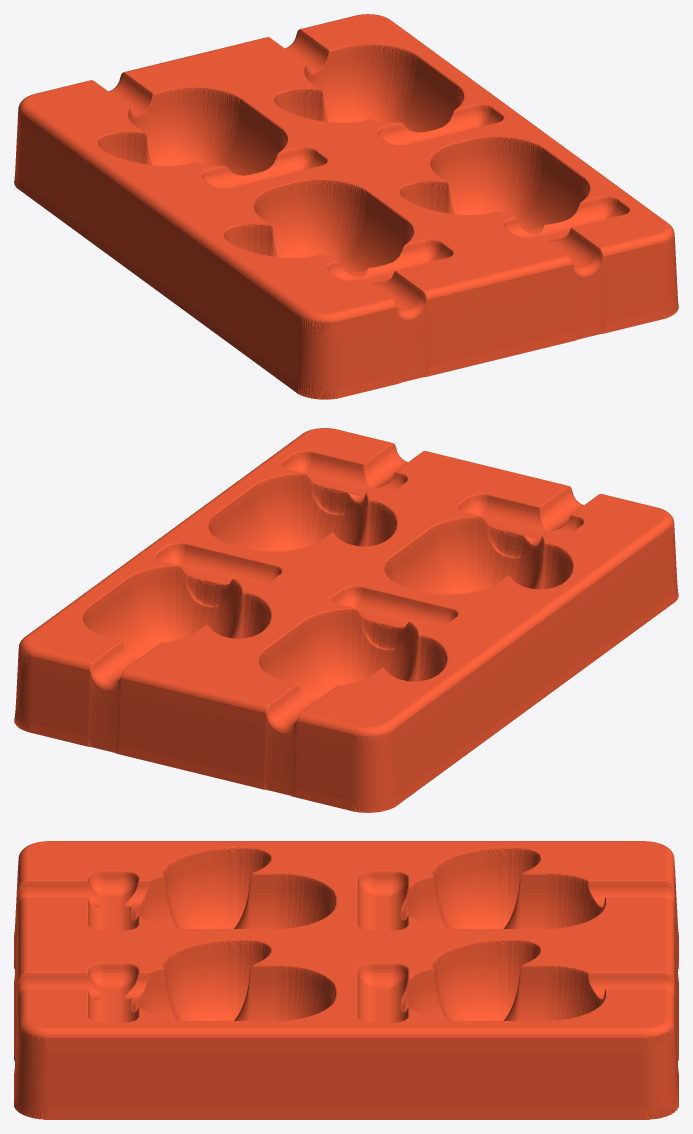
File: mold.glb
The picture shows the model from 3 angles, top to bottom: view 1: azimuth 30°, elevation 25°; view 2: azimuth 150°, elevation 25°; view 3: azimuth 270°, elevation 25°; orthographic projection. The views are drawn at different scales.
Visible parts, largest first — view 1: geometry_0; view 2: geometry_0; view 3: geometry_0.
Part boxes in pixels (left/top/right/bottom): geometry_0: left=14, top=14, right=678, bottom=399; geometry_0: left=14, top=428, right=678, bottom=812; geometry_0: left=14, top=841, right=678, bottom=1119.
Bounding box in the file's own units: 0.1202 × 0.0245 × 0.171.
